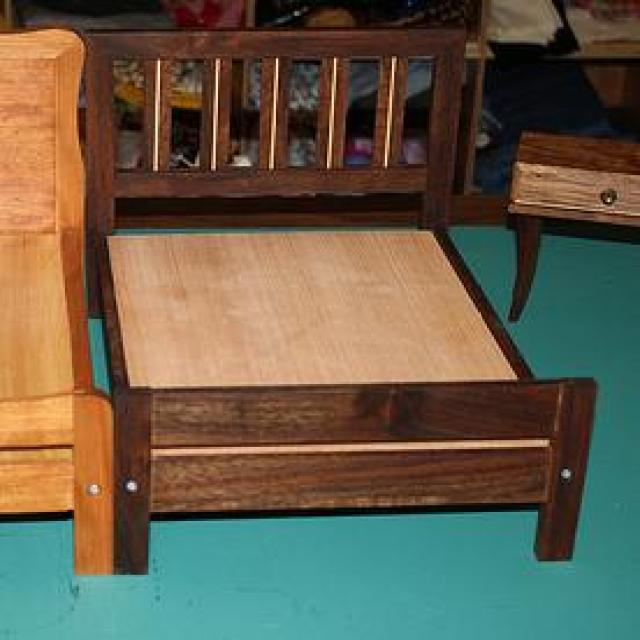bed: (82, 25, 608, 582)
